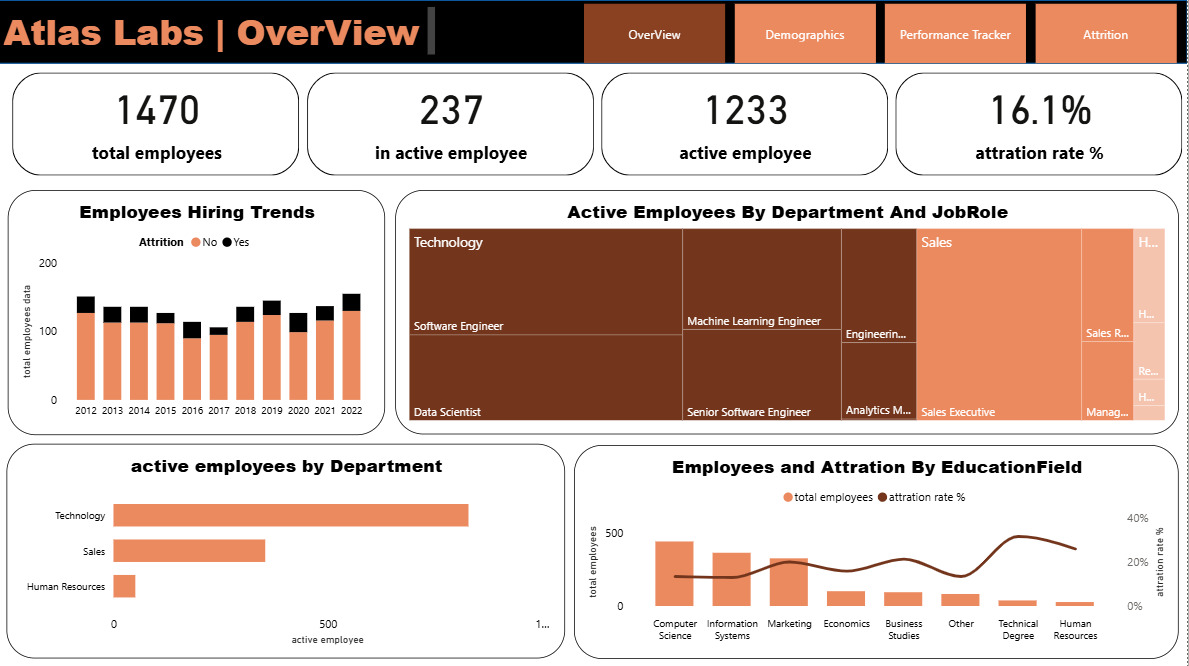

Layout of this report page (visuals, bound fields, positions):
{"tool":"powerbi","page":{"name":"OverView","canvas":[1280,720],"ordinal":0},"visuals":[{"type":"cardVisual","fields":{"Data":["_measures.total employees","_measures.in active employee","_measures.active employee","_measures.attration rate %"]},"box":[9.6,78.2,1270.7,111.1],"z":0},{"type":"columnChart","title":"Employees Hiring Trends","fields":{"Series":["DimEmployee.Attrition"],"Y":["_measures.total employees data"],"Category":["DimDate.Year"]},"box":[9.4,204.6,406.6,263.9],"z":1000},{"type":"clusteredBarChart","title":"active employees by Department","fields":{"Y":["_measures.active employee"],"Category":["DimEmployee.Department"]},"box":[8.1,477.9,601.8,231.6],"z":2000},{"type":"treemap","title":"Active Employees By Department And JobRole","fields":{"Values":["_measures.active employee"],"Group":["DimEmployee.Department"],"Details":["DimEmployee.JobRole"]},"box":[427.4,205.2,843.9,263.2],"z":3000},{"type":"shape","box":[0,0,1280,68.6],"z":4000},{"type":"textbox","box":[0,2.9,474.3,61.4],"z":5000},{"type":"lineStackedColumnComboChart","title":"Employees and Attration By EducationField","fields":{"Category":["DimEmployee.EducationField"],"Y":["_measures.total employees"],"Y2":["_measures.attration rate %"]},"box":[619.3,479.3,651.6,230.2],"z":6000},{"type":"pageNavigator","box":[630,4,640.8,64.6],"z":7000}]}

Visuals, with their boxes in screenshot pixels (x1, y1, x2, y2), scaled from the page's 1280x720 canvas onto the 1189x666 screenshot:
cardVisual - _measures.total employees x _measures.in active employee: 9:72:1188:175
"Employees Hiring Trends" columnChart: 9:189:386:433
"active employees by Department" clusteredBarChart: 8:442:567:656
"Active Employees By Department And JobRole" treemap: 397:190:1181:433
shape: 0:0:1188:63
textbox: 0:3:441:59
"Employees and Attration By EducationField" lineStackedColumnComboChart: 575:443:1181:656
pageNavigator: 585:4:1180:63
